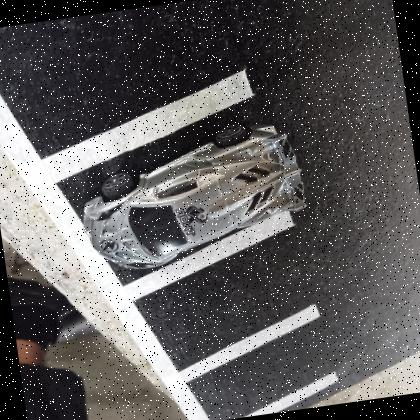Car: (81, 123, 305, 273)
